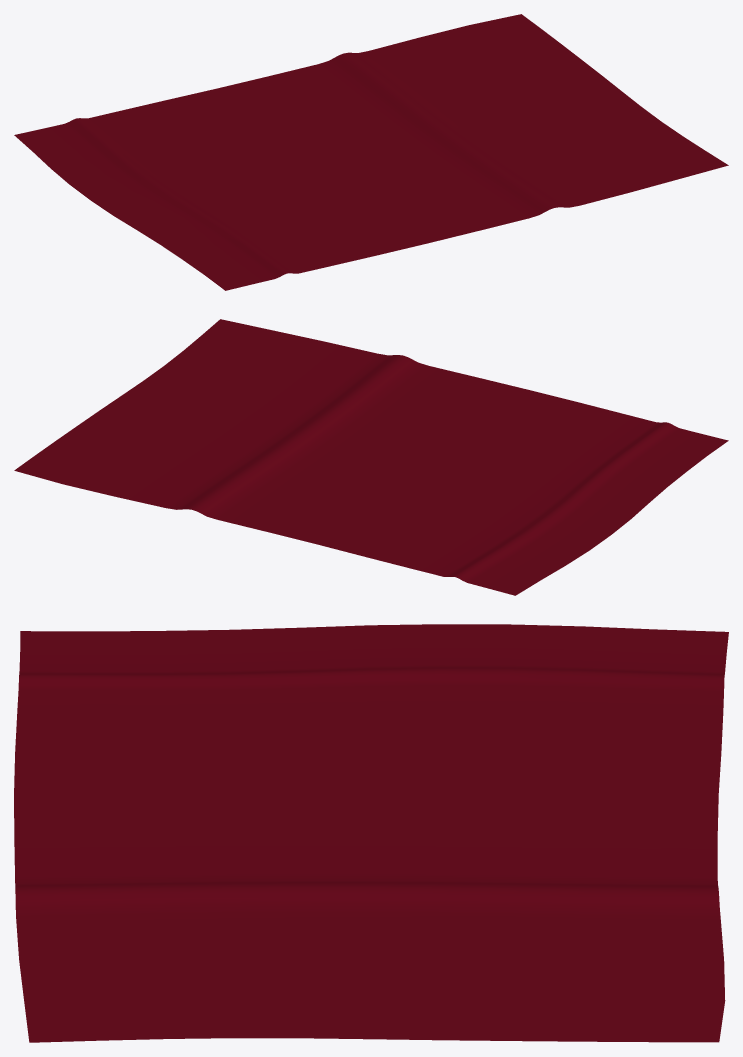
Rendered from Carpet_Large.fbx.
3 views of the same model, one above another, from view 1: azimuth 30°, elevation 25°; view 2: azimuth 150°, elevation 25°; view 3: azimuth 270°, elevation 25° (orthographic). The views are drawn at different scales.
Visible parts, largest first — view 1: Carpet_Large; view 2: Carpet_Large; view 3: Carpet_Large.
Boxes of the visible parts, box(x1,y1,x2,y2) form: Carpet_Large: box(14, 14, 728, 290); Carpet_Large: box(14, 319, 728, 595); Carpet_Large: box(14, 624, 728, 1042).
Bounding box in the file's own units: 2.99 × 0.0229 × 2.16.
